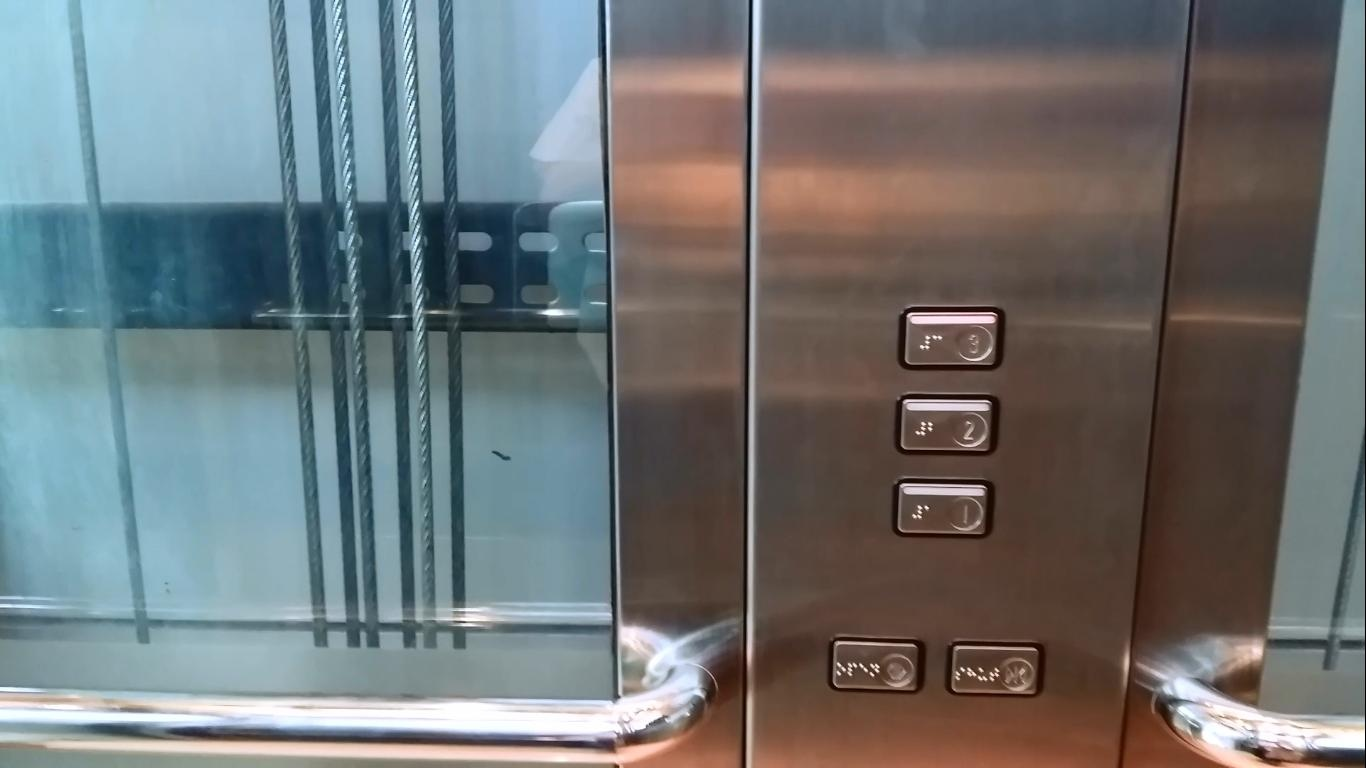1: (892, 474, 997, 541)
2: (894, 390, 1002, 455)
3: (897, 302, 1007, 371)
close: (944, 636, 1046, 698)
open: (826, 631, 926, 694)
